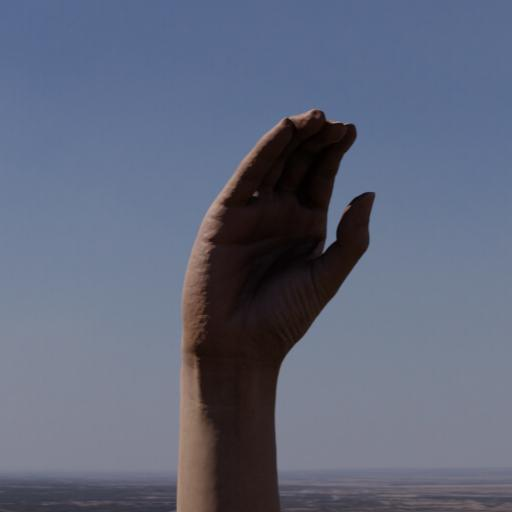C: (156, 100, 384, 512)
